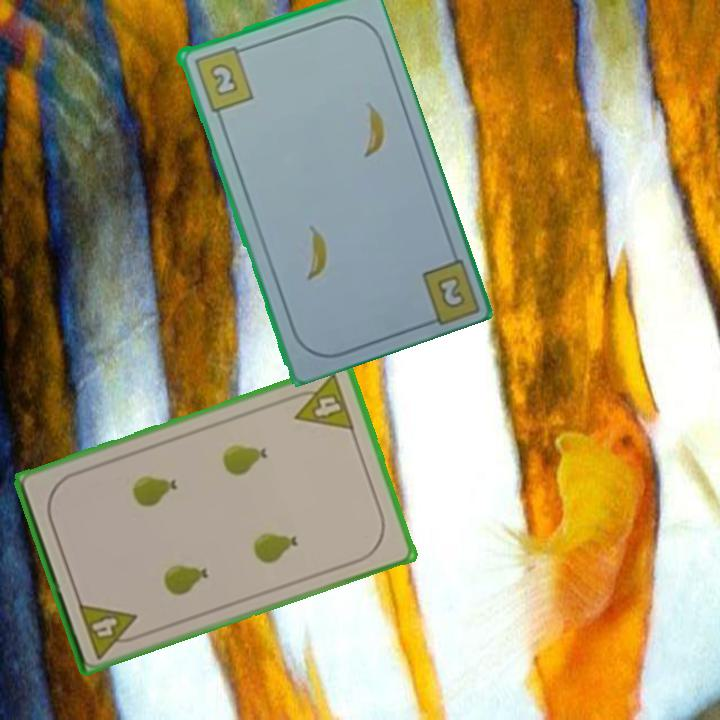2b: (417, 252, 480, 328), (190, 42, 256, 114)
4p: (285, 370, 358, 434), (74, 598, 145, 662)
